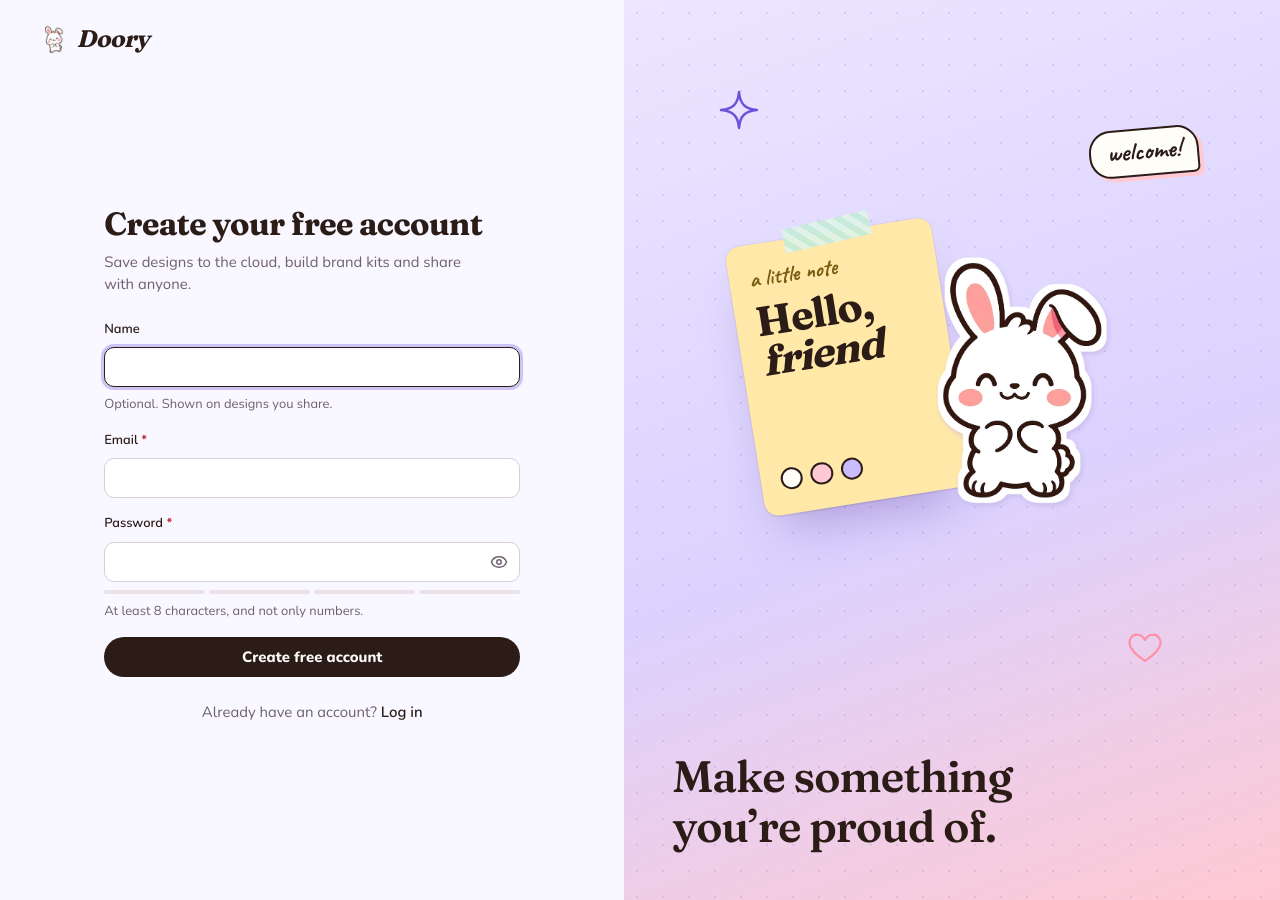
Test case: signup › shows field-level server errors next to the field
Type "taken@example.com" into the field labelled "Email *" at [312, 478], box [117, 459, 507, 497]
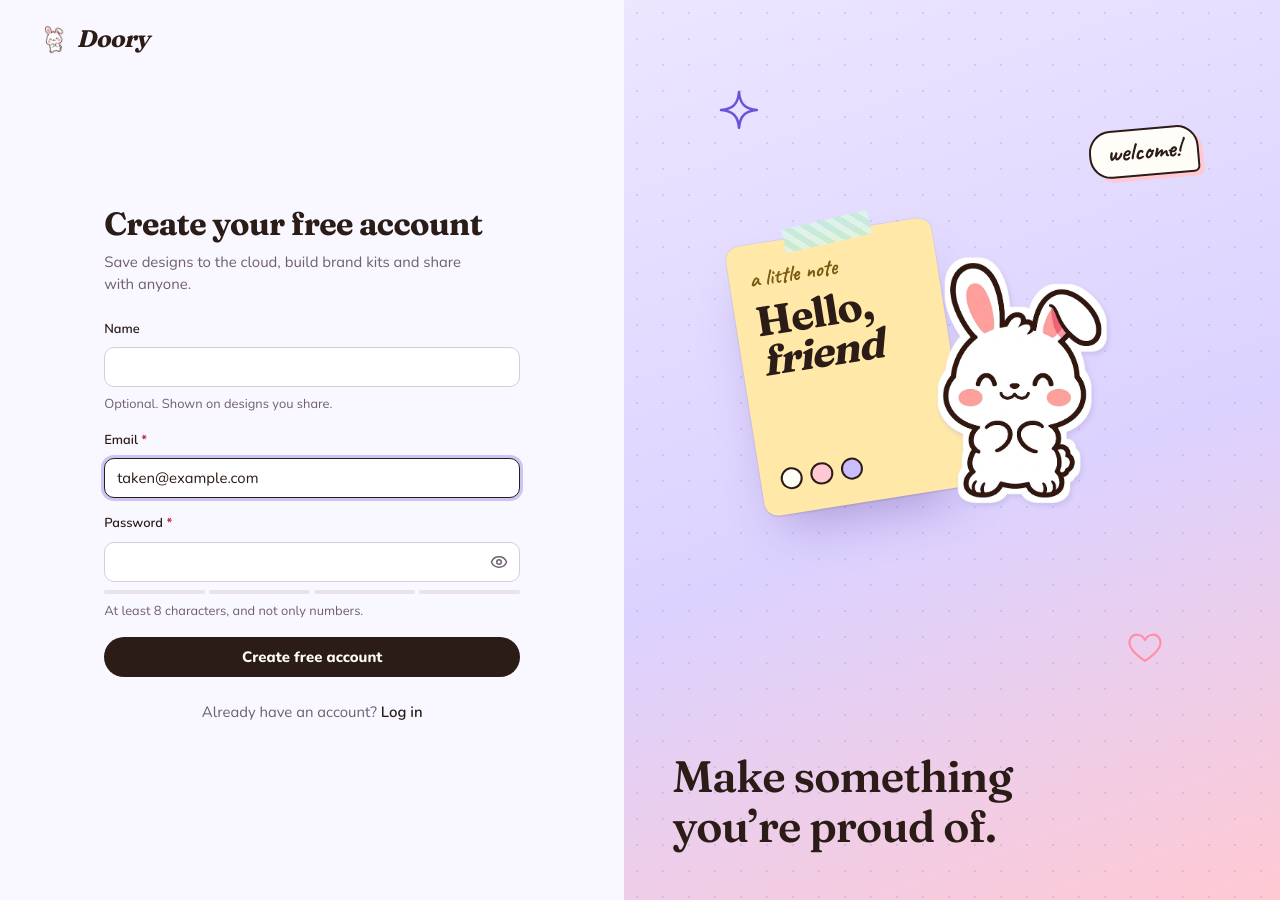
Type "compilers-rule-1" into the password field labelled "Password *" at [296, 562], box [117, 543, 475, 581]
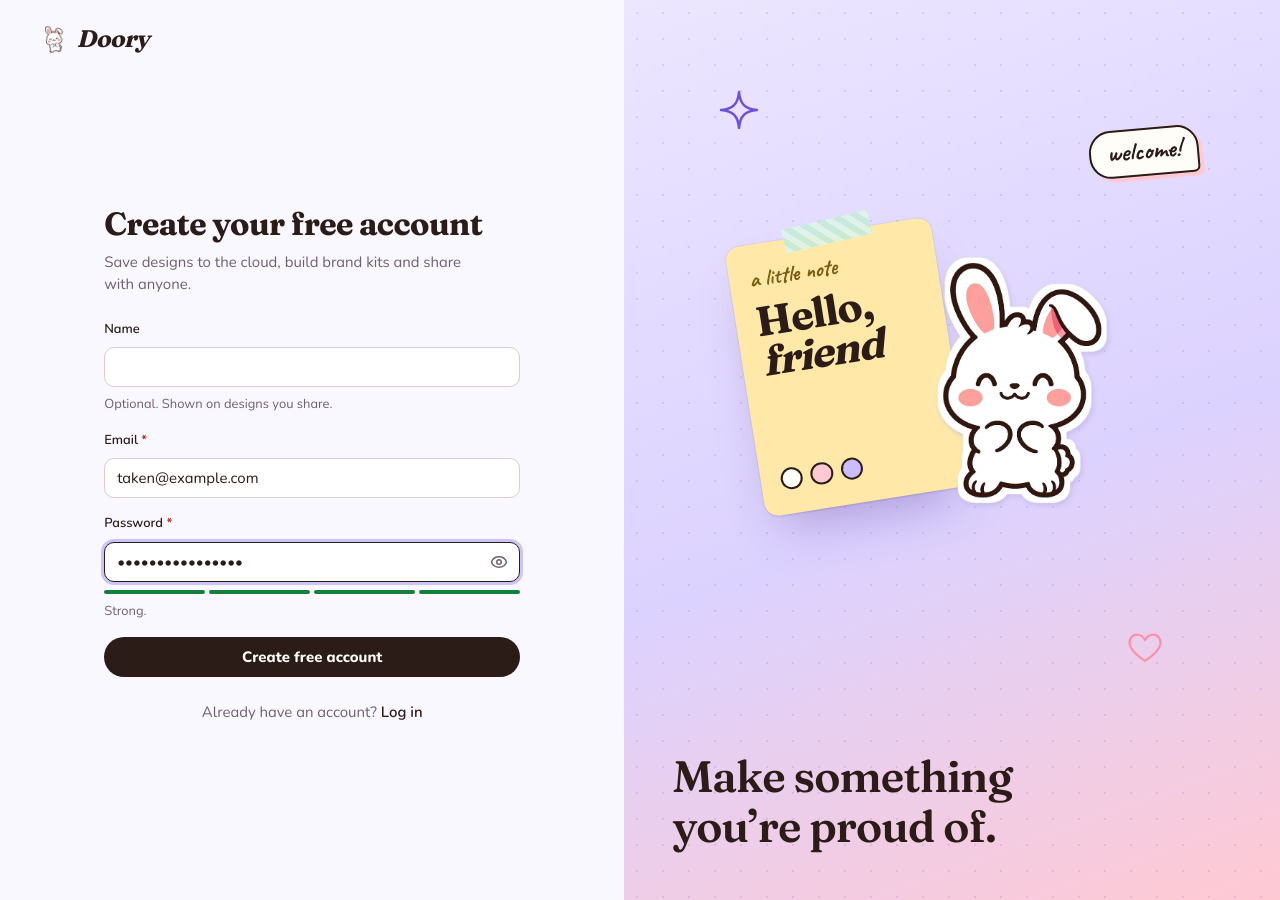
Click the button "Create free account" at [312, 657], box [104, 637, 520, 677]
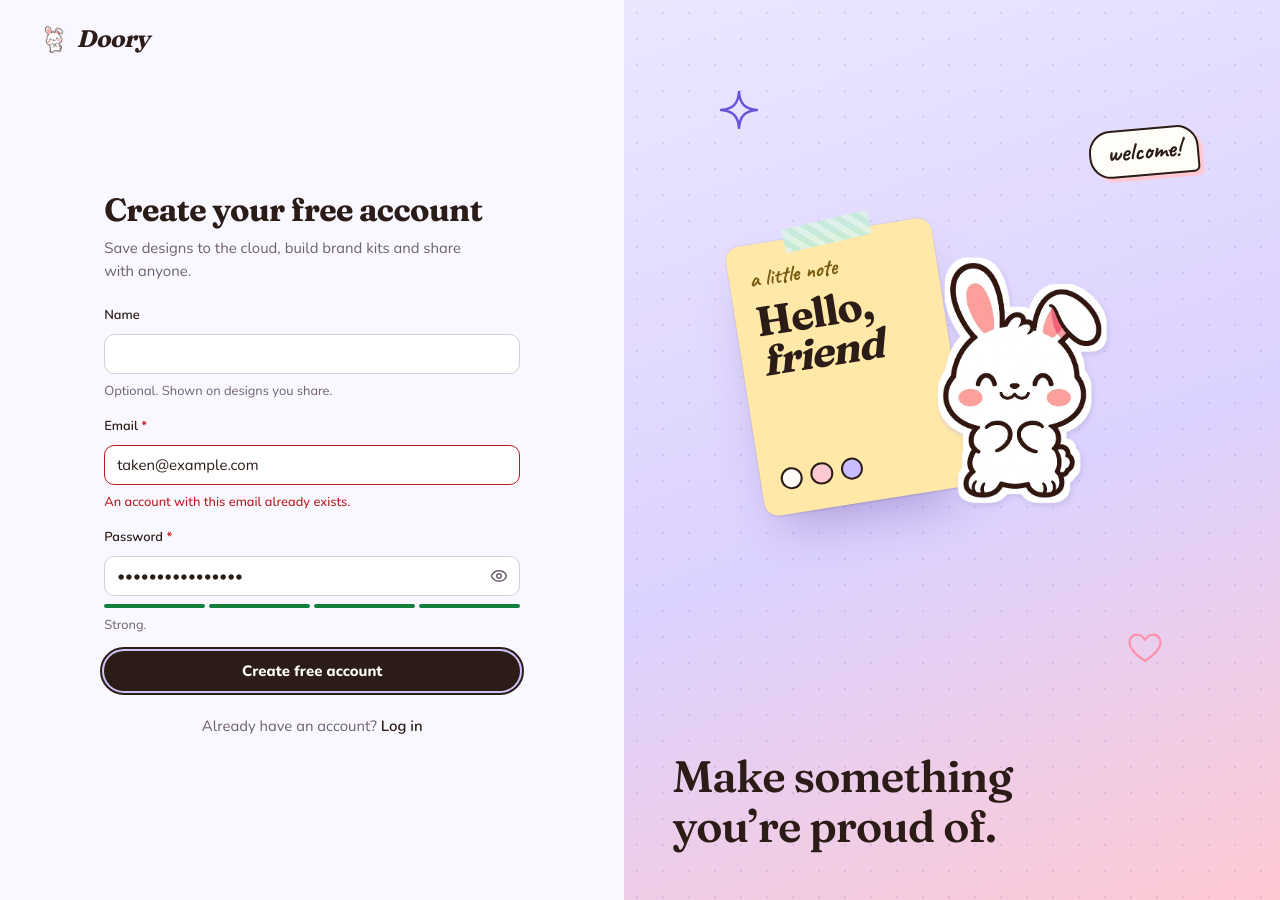
Check: the text "An account with this email already exists." is shown, box [104, 493, 350, 511]
